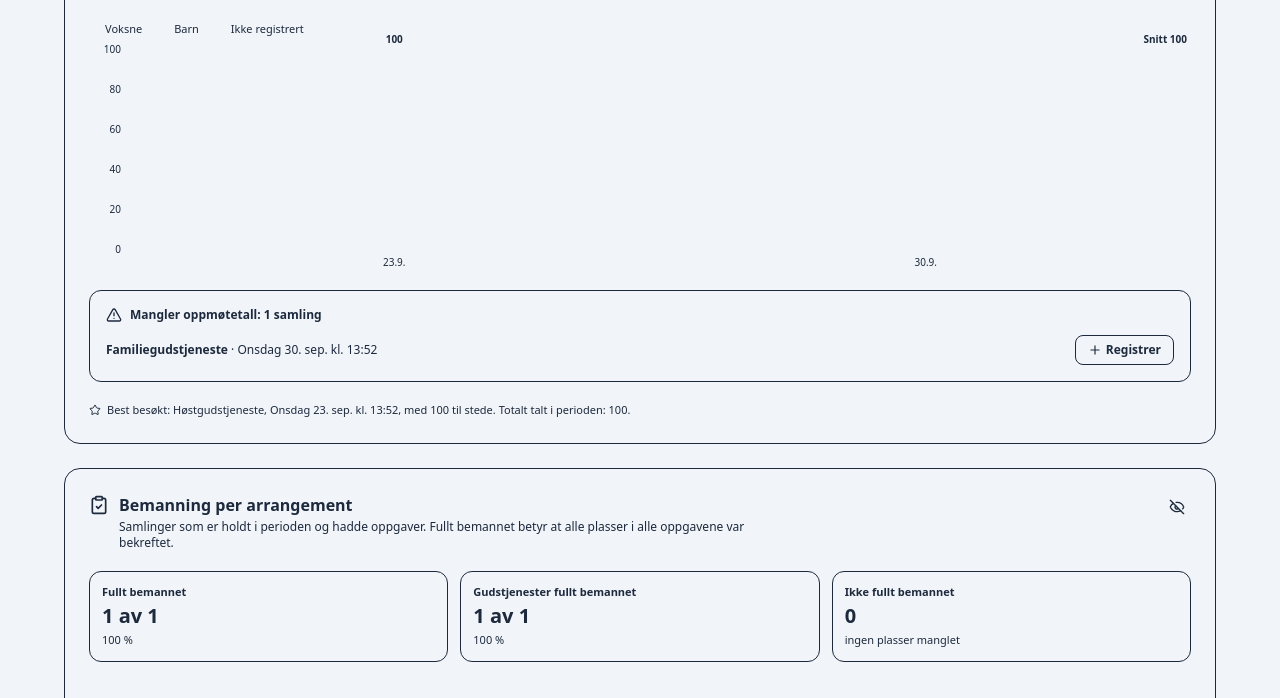
Test: Analysebord › lister samlinger som mangler oppmøtetall, og lagrer en ny telling
(page scrolled)
Expected: the text "Mangler oppmøtetall: 1 samling" is shown, [130,307,322,323]
Click the button "Registrer": click(1124, 350) [1075,335,1174,365]
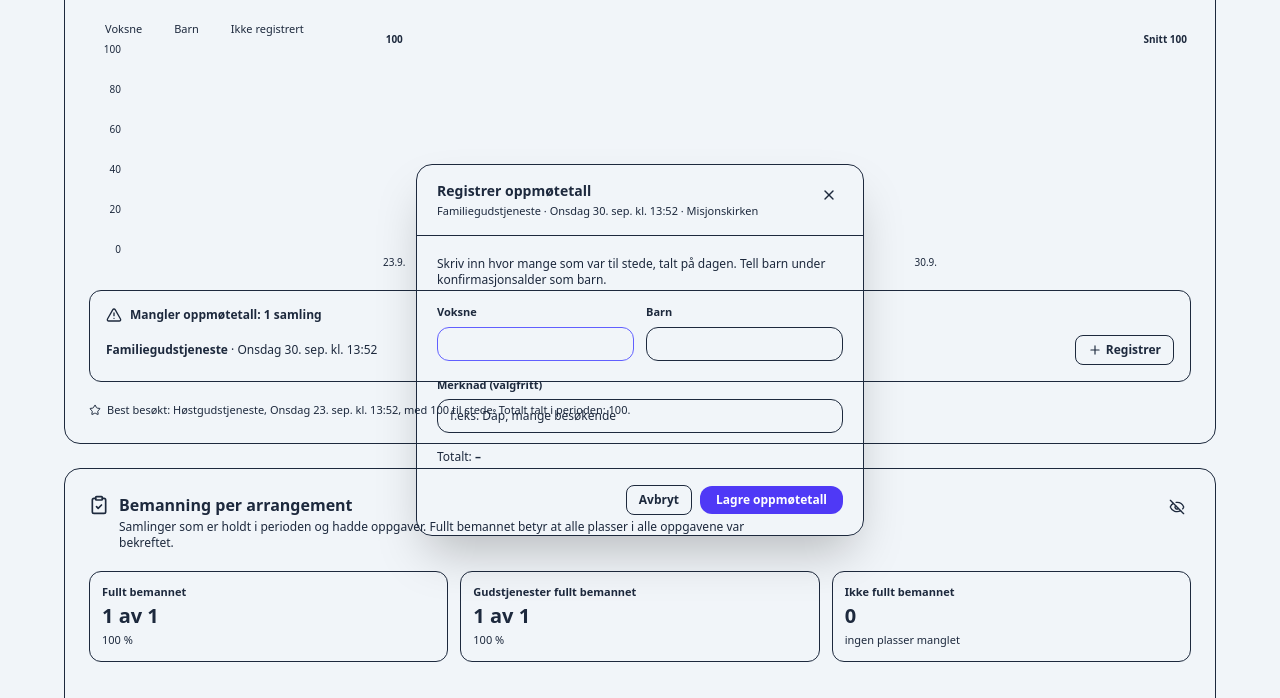
Result: the text "Familiegudstjeneste" is shown at [437,203,541,218]
# Nobody counted is refused, and nothing is stored
Click the button "Lagre oppmøtetall": click(772, 500) [700,486,843,514]
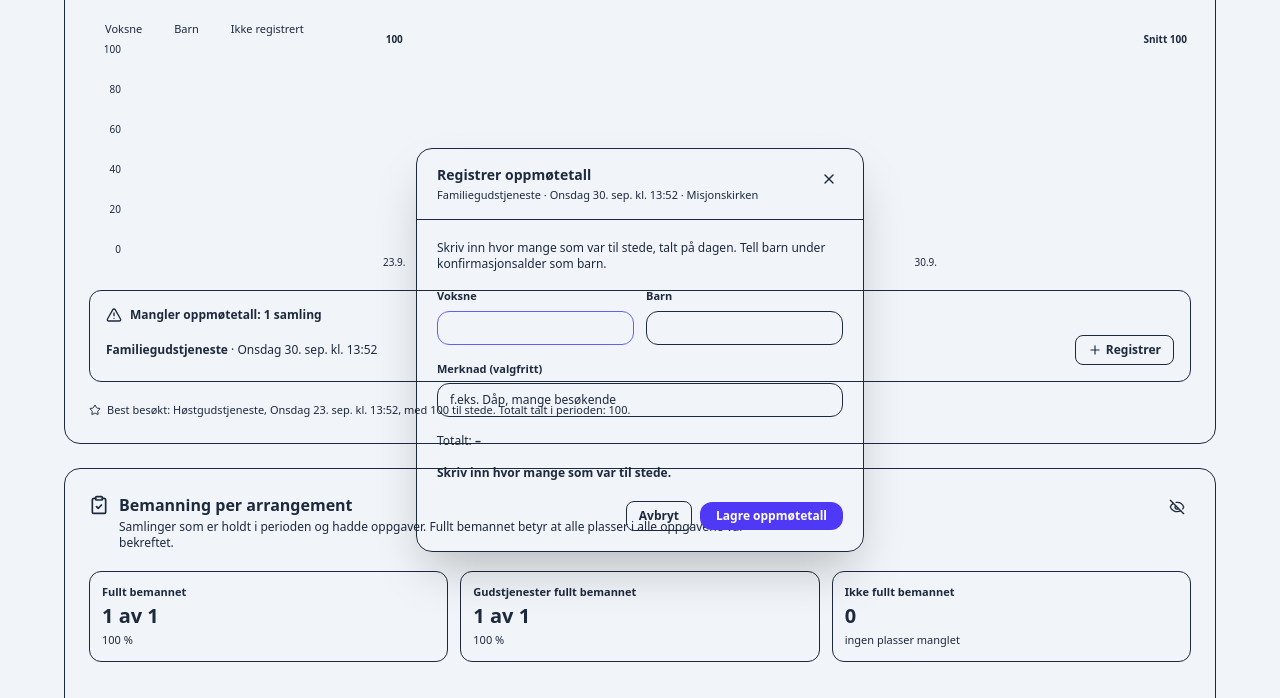
Result: the message reads "Skriv inn hvor mange som var til stede." at [437,464,671,481]
In the field labelled "Voksne": (536, 328) [437,311,634,345], type "72"
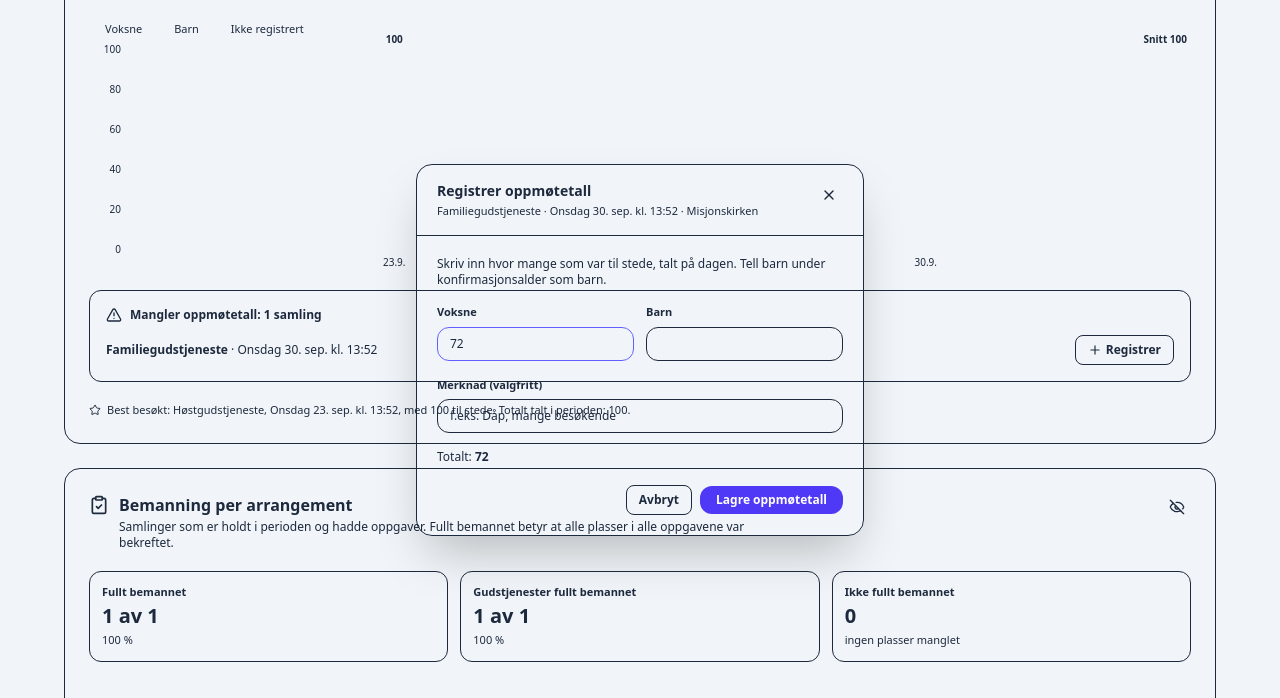
In the field labelled "Barn": (744, 344) [646,327,843,361], type "15"
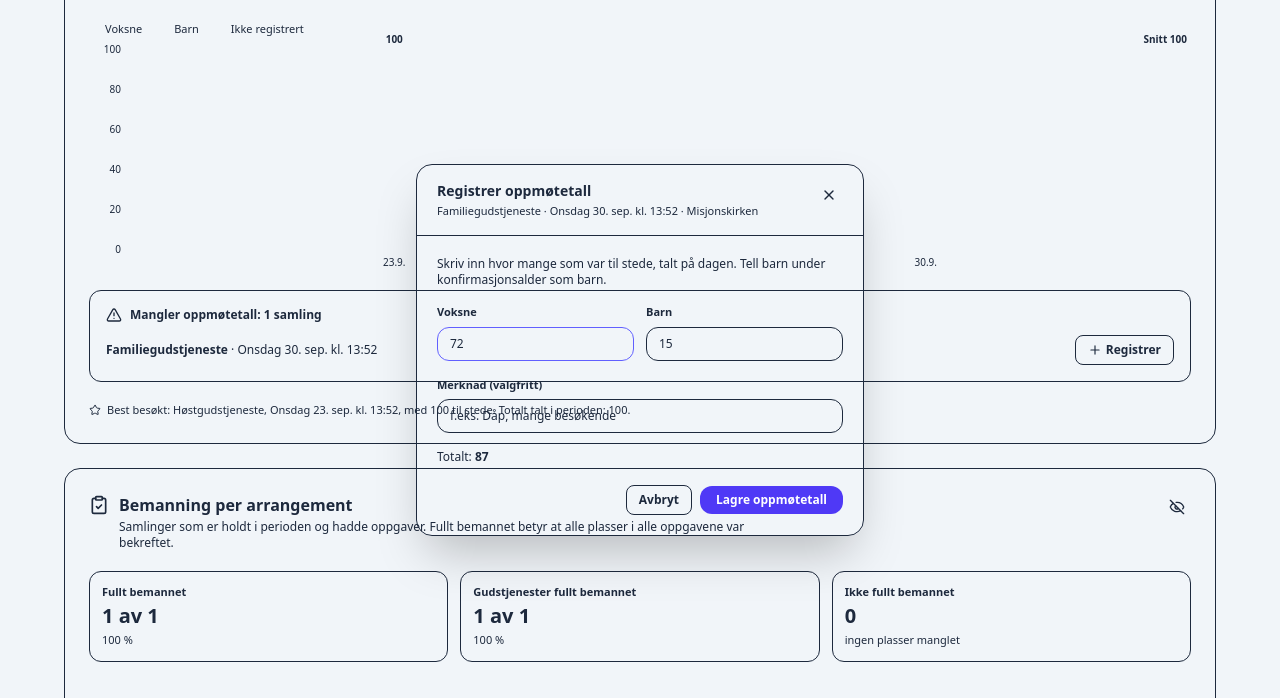
Result: the text "87" is shown at [475,448,489,465]
Click the button "Lagre oppmøtetall": click(772, 500) [700,486,843,514]
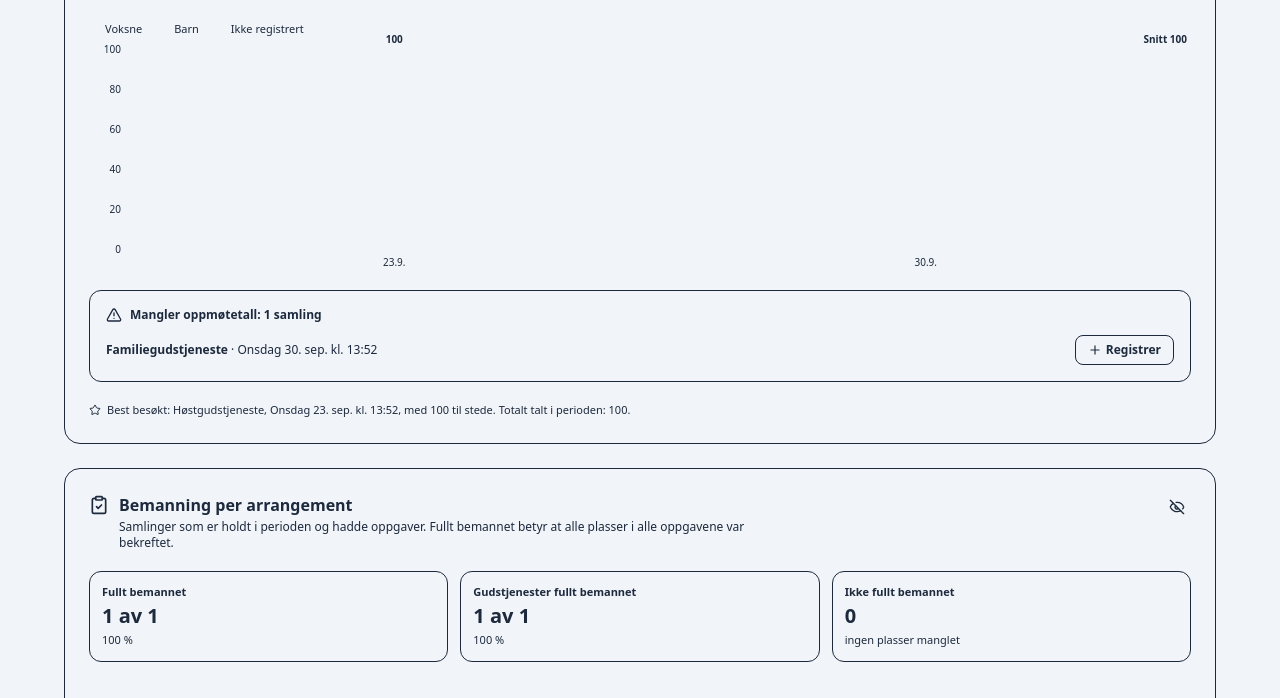
Result: the dialog is gone
